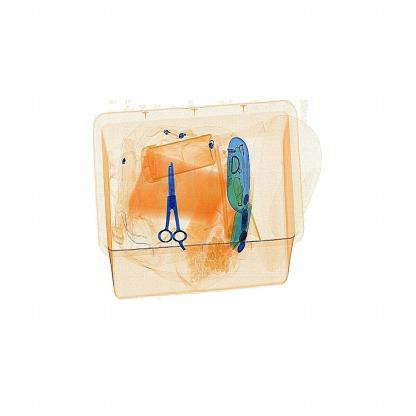gun: (156, 164, 191, 245)
